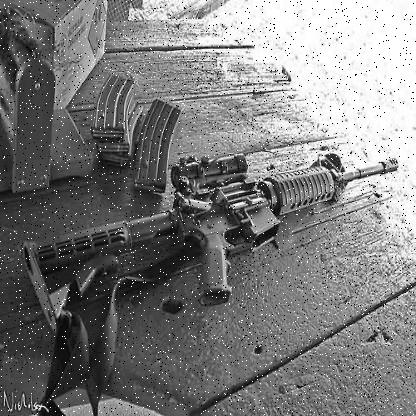rifle: (13, 124, 415, 367)
